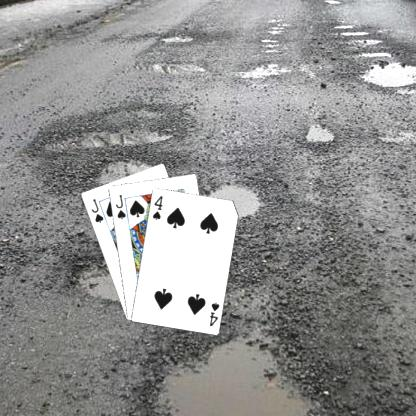4S: (149, 193, 164, 221), (206, 299, 221, 327)
JS: (88, 196, 104, 224), (112, 192, 126, 221)
